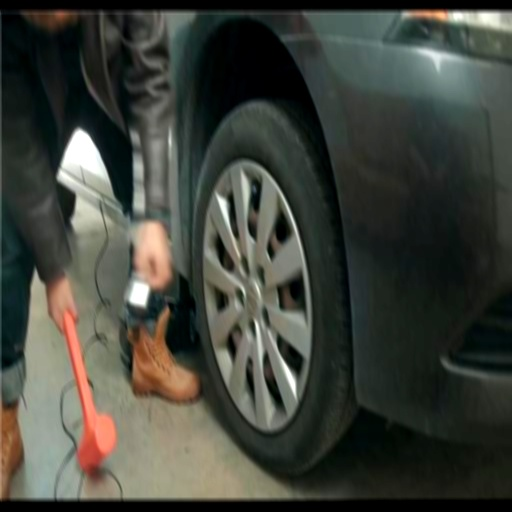mallet: (62, 313, 117, 470)
